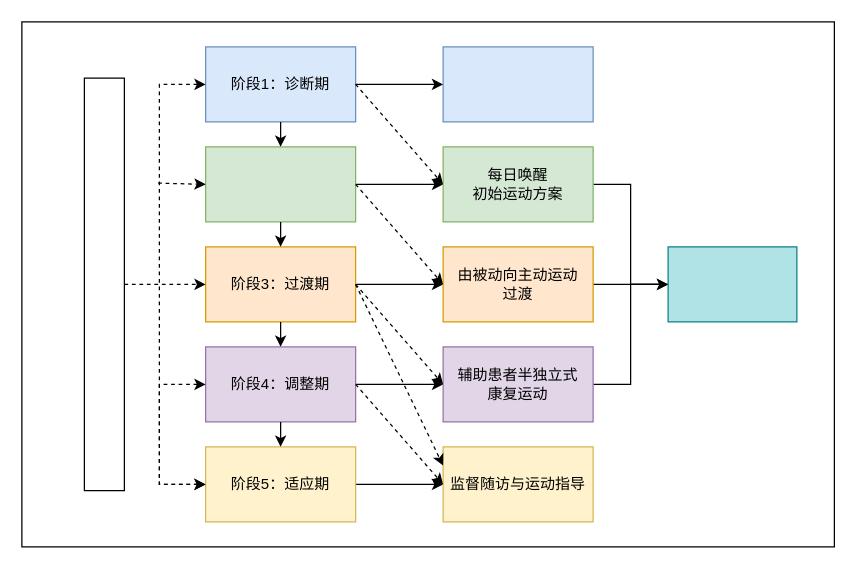
Image size: 856x569. Some labels were removed from this diagram. Each missing label, with the centre of its shape:
"主 要 场 所 为ICU或 由ICU转 出 至 病 房" goes at (103,284).
"核心模块，可根据临床实际交叉进行" goes at (732,284).
"评估身体状况 识别风险预警" goes at (517,84).
"阶段2：稳定期" goes at (280,184).
